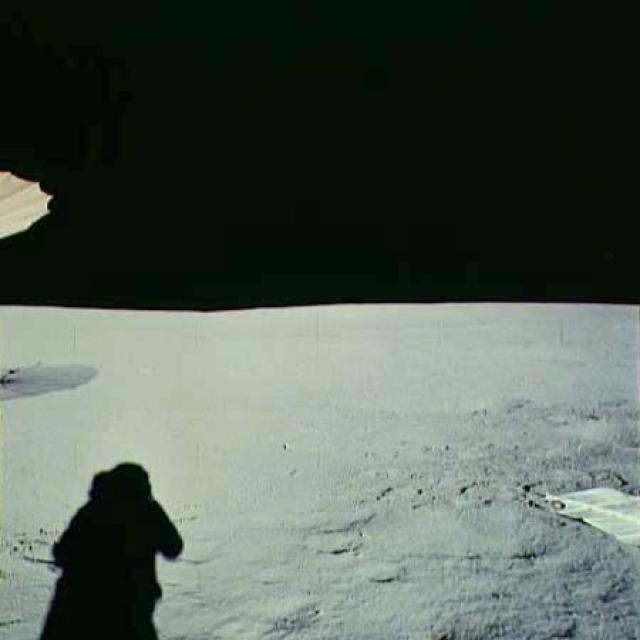crater: (367, 488, 609, 577), (392, 378, 551, 423), (554, 402, 638, 468)
